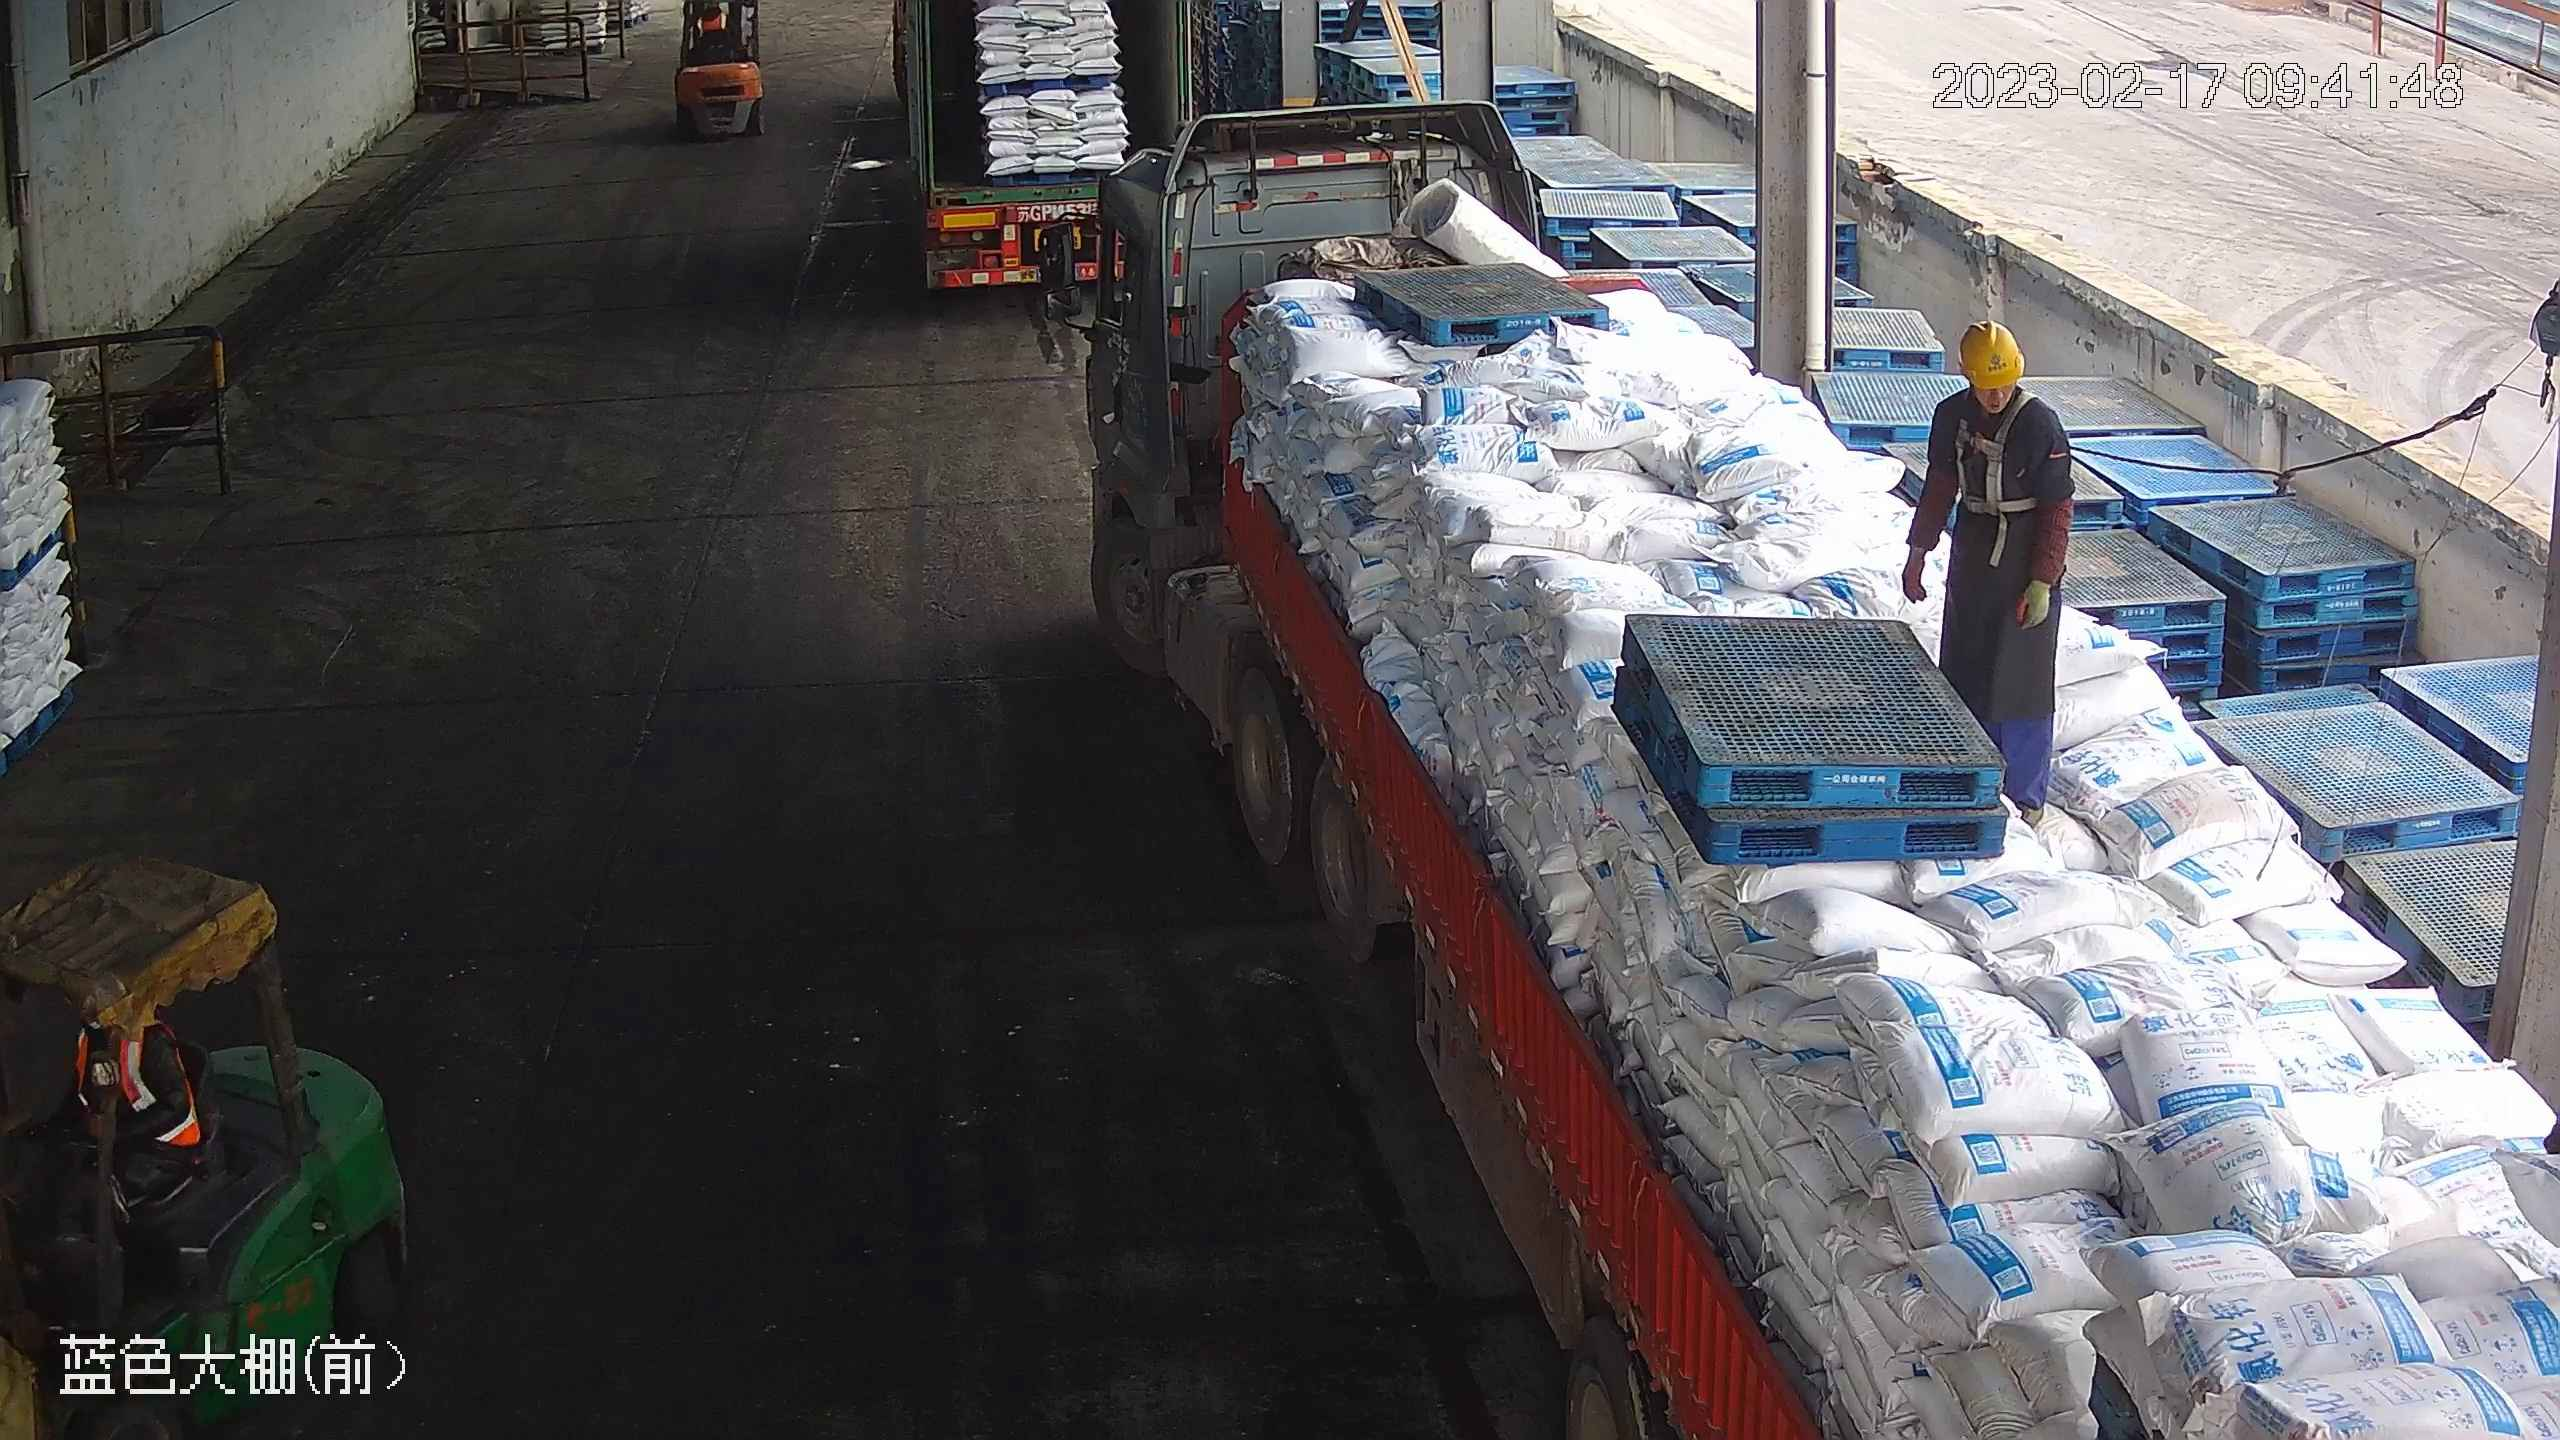belt: (1948, 384, 2041, 506)
head: (1915, 317, 2069, 473)
helmet: (1947, 313, 2030, 391)
people: (1901, 312, 2088, 833)
truck: (1032, 99, 2555, 1440), (890, 1, 1188, 294)
